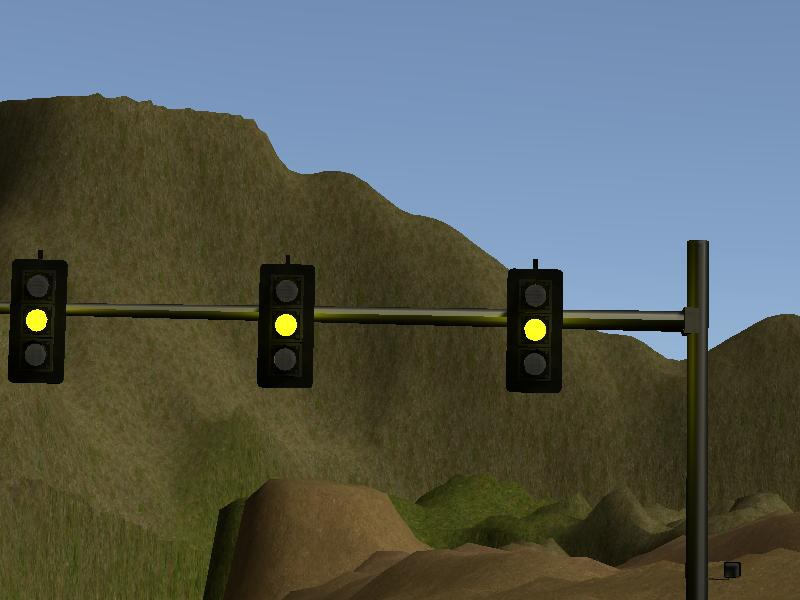yellow: (9, 261, 66, 382), (508, 268, 561, 393), (261, 263, 312, 390)
